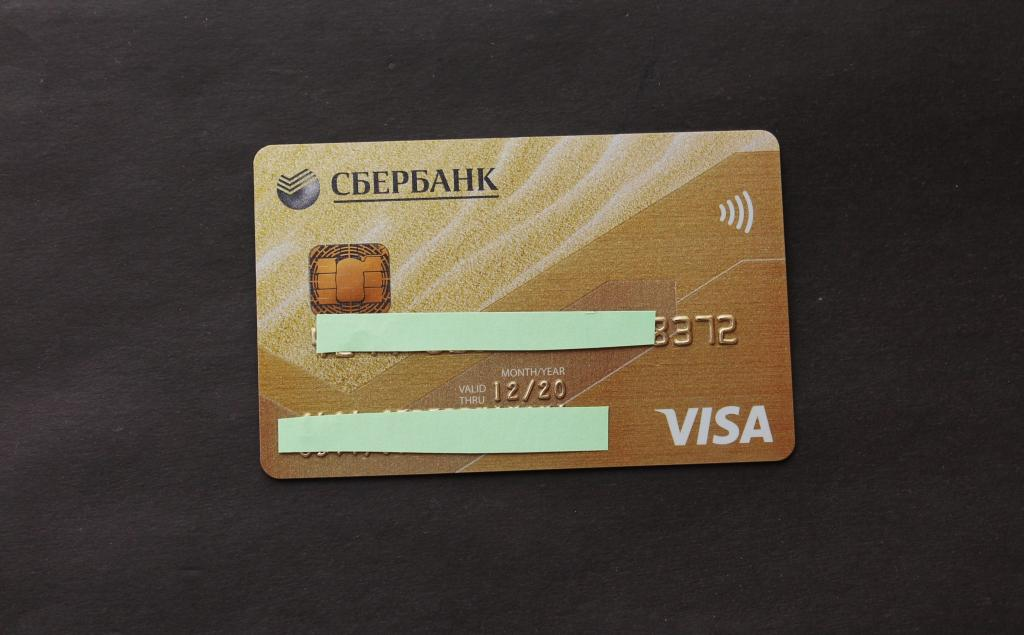card: (251, 127, 798, 481)
